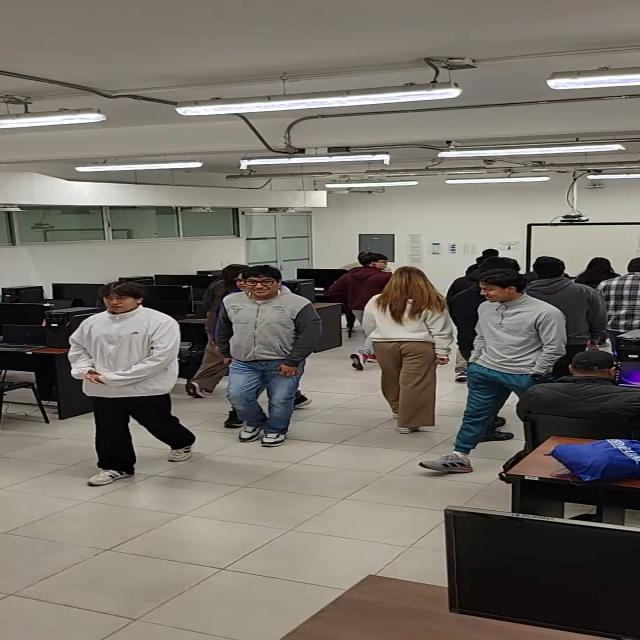Persona: (74, 278, 194, 468), (467, 273, 564, 459), (367, 269, 458, 449), (221, 265, 307, 440)
